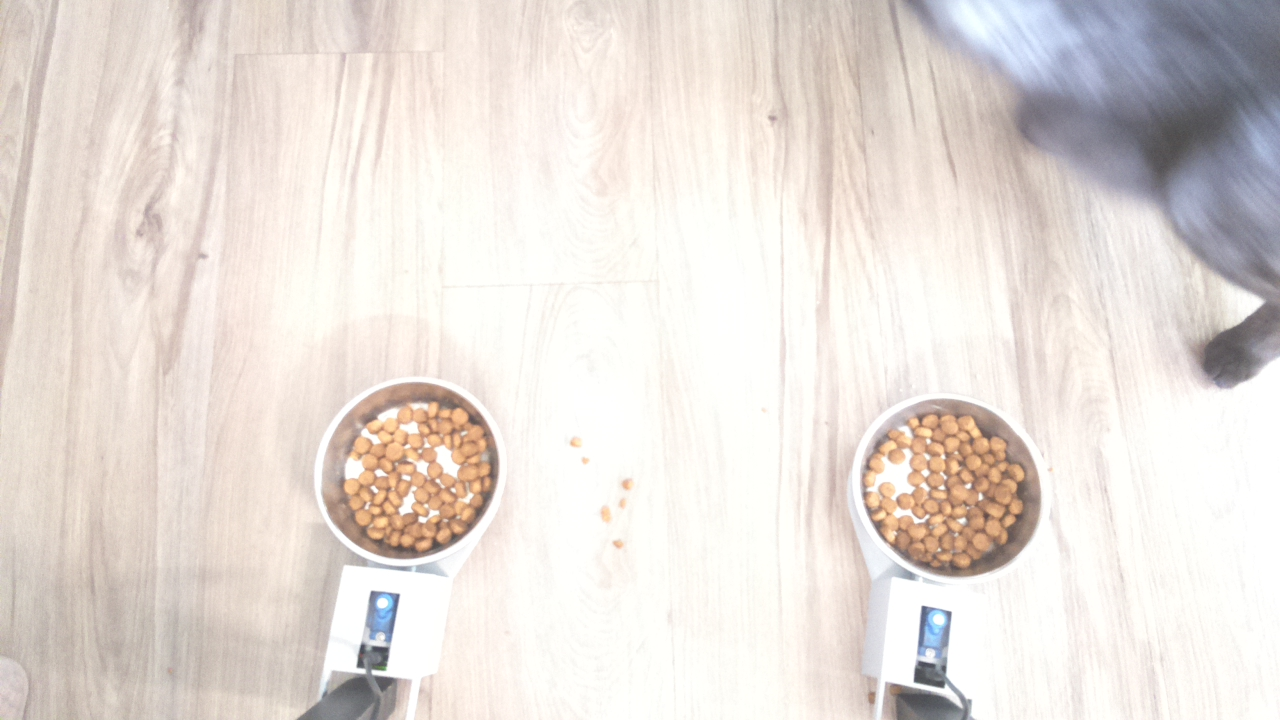open_bowl: (849, 391, 1049, 584), (312, 378, 509, 565)
